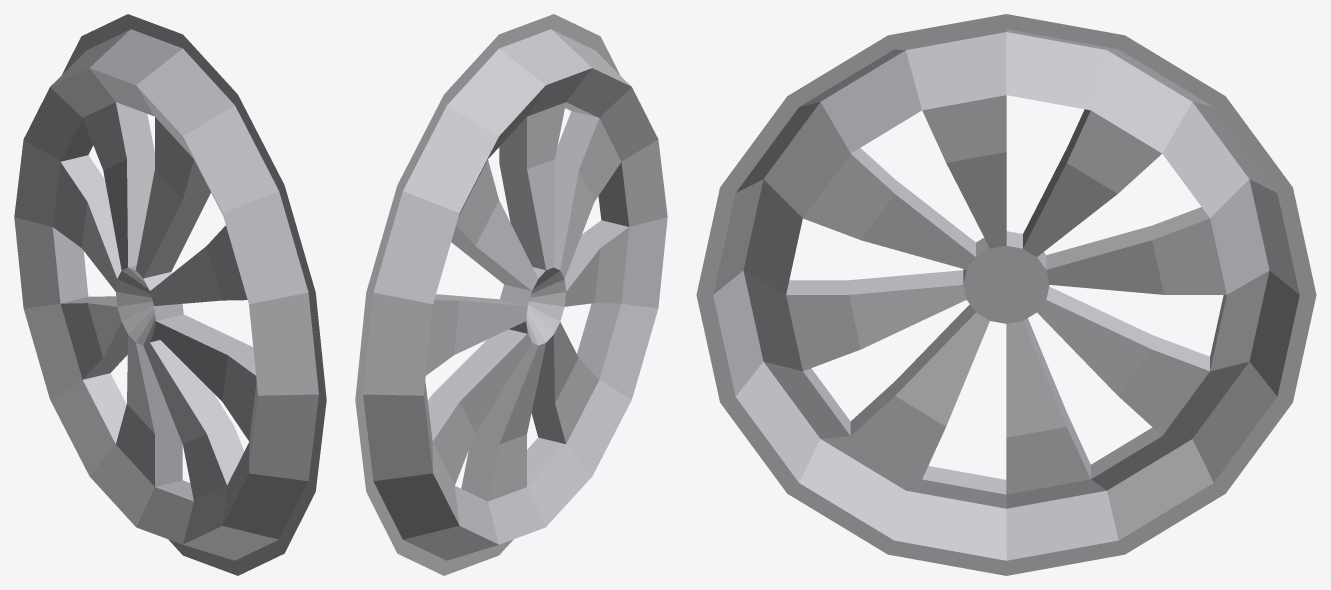
Rendered from wheel-sample.obj.
3 views of the same model, side by side, from view 1: azimuth 30°, elevation 25°; view 2: azimuth 150°, elevation 25°; view 3: azimuth 270°, elevation 25° (orthographic). The views are drawn at different scales.
Parts seen in each view (by area): view 1: Wheel; view 2: Wheel; view 3: Wheel.
Boxes of the visible parts, box(x1,y1,x2,y2) form: Wheel: box(14, 14, 326, 575); Wheel: box(355, 14, 667, 575); Wheel: box(696, 14, 1316, 575).
Size of the model in its own units: 0.0656 by 0.6928 by 0.6928.
